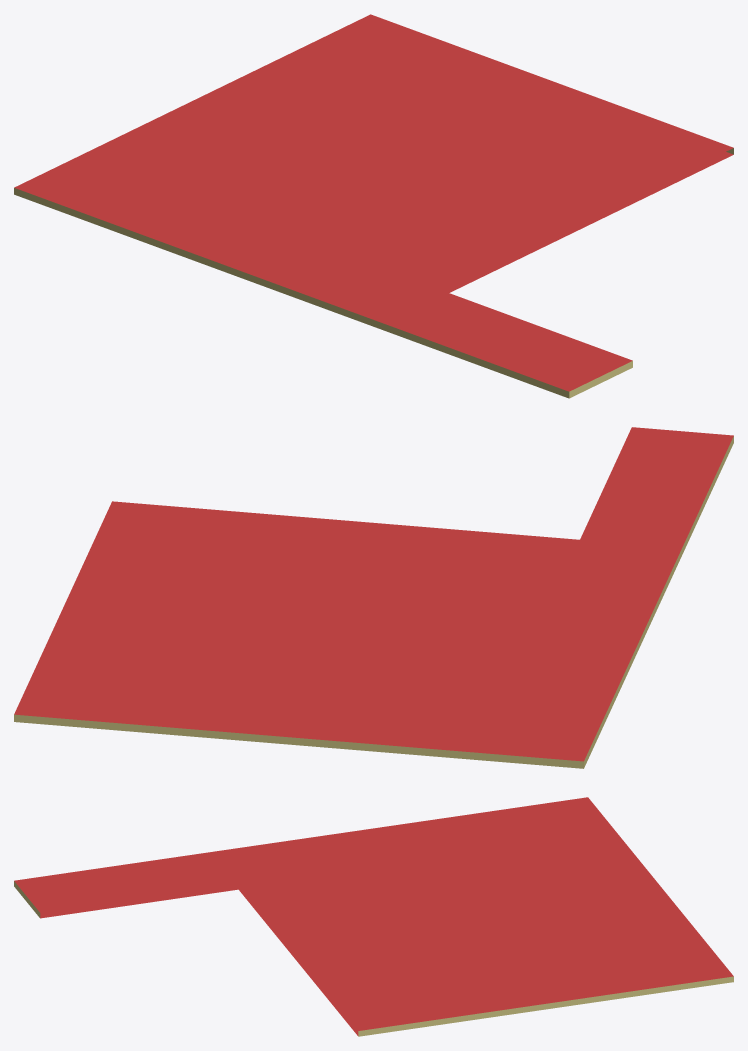
3 views of the same model, one above another, from view 1: azimuth 30°, elevation 25°; view 2: azimuth 150°, elevation 25°; view 3: azimuth 270°, elevation 25° (orthographic). The views are drawn at different scales.
Size of the model in its own units: 8.83 by 11.49 by 0.1.
